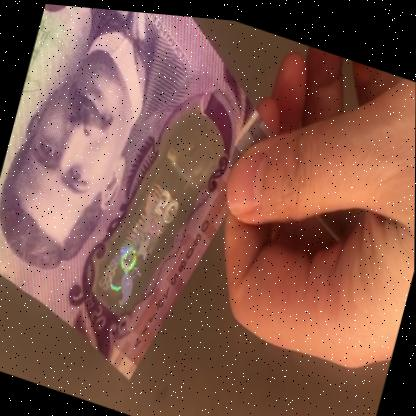50F: (91, 107, 217, 323)
